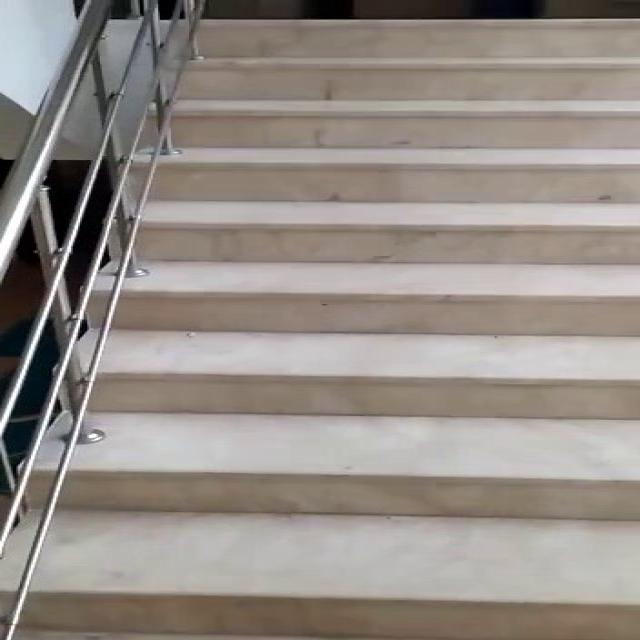stair: (104, 7, 640, 640)
